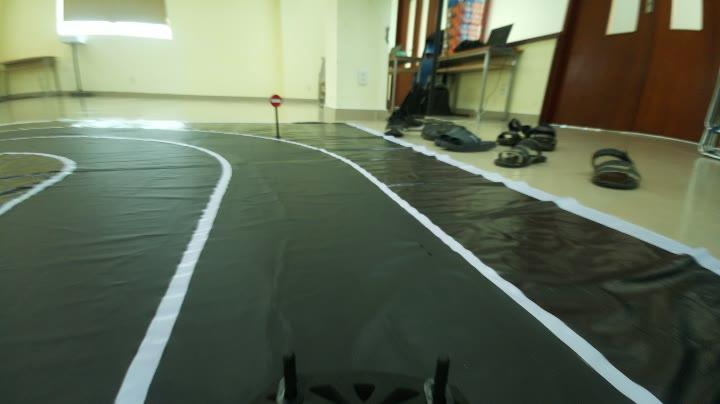no_entry: (264, 90, 289, 110)
